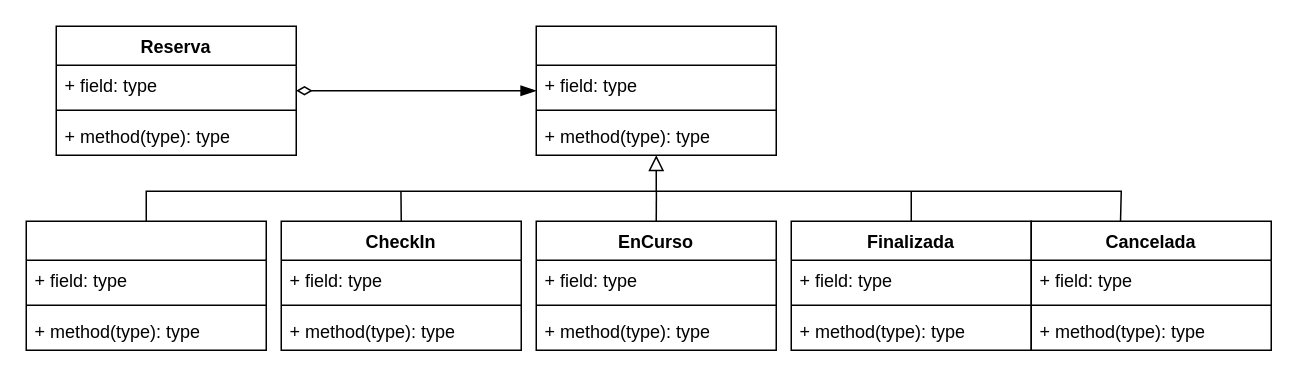
This 1298x381 diagram has some shape labels left out. Here are the shapes that lost their labels. From the top down, the box of each, then its label:
(535, 25, 776, 155): Pendiente
(25, 220, 266, 350): Confirmada
